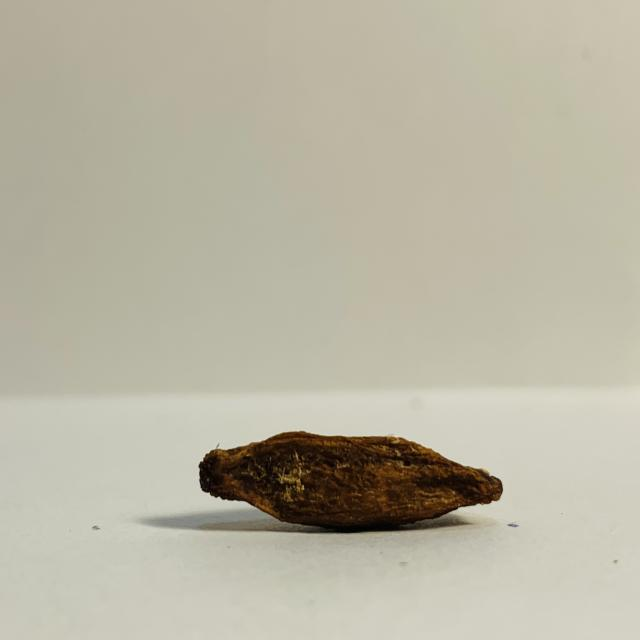Flat_cocoabeans: (105, 388, 585, 564)
